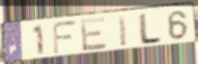1: (31, 24, 48, 57)
6: (166, 9, 191, 41)
E: (79, 15, 109, 53)
F: (51, 20, 79, 57)
I: (117, 13, 129, 48)
L: (138, 11, 164, 47)
